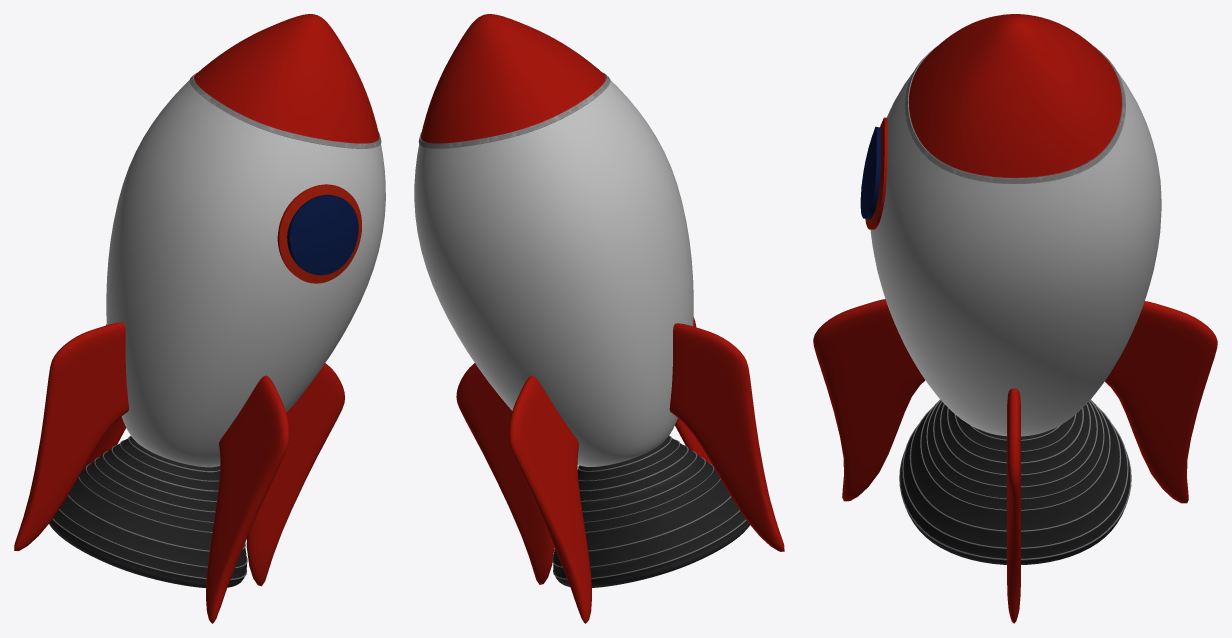
File: Final_texture_spline_smooth_rocket.glb
The picture shows the model from 3 angles, left to right: view 1: azimuth 30°, elevation 25°; view 2: azimuth 150°, elevation 25°; view 3: azimuth 270°, elevation 25°; orthographic projection. The views are drawn at different scales.
Visible parts, largest first — view 1: polySurface5, polySurface4, toy_rocket__1_:meshes_11_2, toy_rocket__1_:meshes_11_1, toy_rocket__1_:meshes_11_, toy_rocket__1_:meshes_8_, toy_rocket__1_:meshes_9_, toy_rocket__1_:meshes_11_3; view 2: polySurface5, polySurface4, toy_rocket__1_:meshes_11_2, toy_rocket__1_:meshes_11_3, toy_rocket__1_:meshes_11_, toy_rocket__1_:meshes_11_1; view 3: polySurface5, polySurface4, toy_rocket__1_:meshes_11_3, toy_rocket__1_:meshes_11_1, toy_rocket__1_:meshes_11_, toy_rocket__1_:meshes_8_, toy_rocket__1_:meshes_9_.
Boxes of the visible parts, x1,y1,x2,y2 form: polySurface5: [49, 80, 385, 588]; polySurface4: [189, 14, 381, 148]; toy_rocket__1_:meshes_11_2: [14, 322, 128, 550]; toy_rocket__1_:meshes_11_1: [206, 375, 289, 623]; toy_rocket__1_:meshes_11_: [246, 363, 344, 586]; toy_rocket__1_:meshes_8_: [287, 194, 358, 275]; toy_rocket__1_:meshes_9_: [277, 184, 361, 283]; toy_rocket__1_:meshes_11_3: [83, 324, 126, 469]; polySurface5: [414, 80, 749, 587]; polySurface4: [418, 14, 610, 148]; toy_rocket__1_:meshes_11_2: [669, 323, 784, 551]; toy_rocket__1_:meshes_11_3: [508, 375, 591, 623]; toy_rocket__1_:meshes_11_: [456, 363, 554, 584]; toy_rocket__1_:meshes_11_1: [675, 317, 711, 464]; polySurface5: [870, 73, 1161, 564]; polySurface4: [905, 14, 1125, 183]; toy_rocket__1_:meshes_11_3: [1105, 301, 1217, 503]; toy_rocket__1_:meshes_11_1: [813, 299, 925, 501]; toy_rocket__1_:meshes_11_: [1007, 388, 1020, 623]; toy_rocket__1_:meshes_8_: [860, 126, 880, 219]; toy_rocket__1_:meshes_9_: [865, 117, 887, 229].
Bounding box in the file's own units: 0.0313 × 0.0474 × 0.0275.
Materials: 1 (1 with a texture image).
